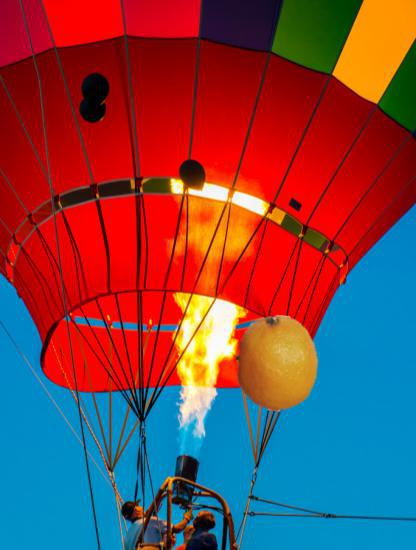Lemon: (229, 315, 325, 411)
